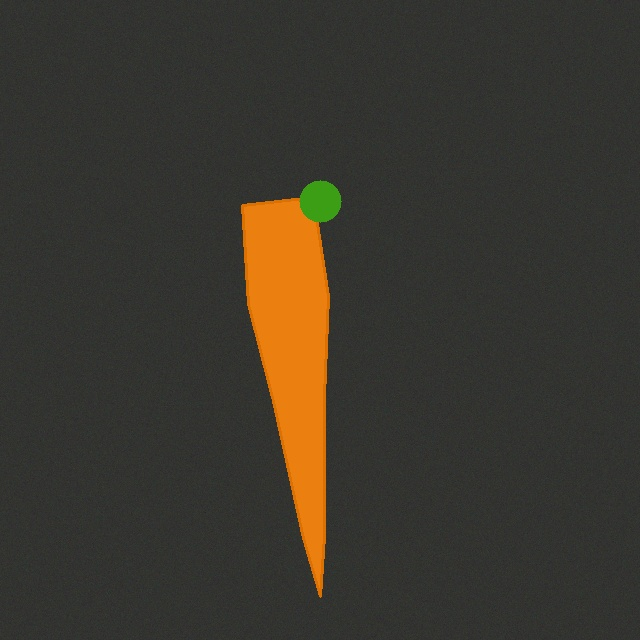Good_Carrot: (234, 189, 336, 604)
